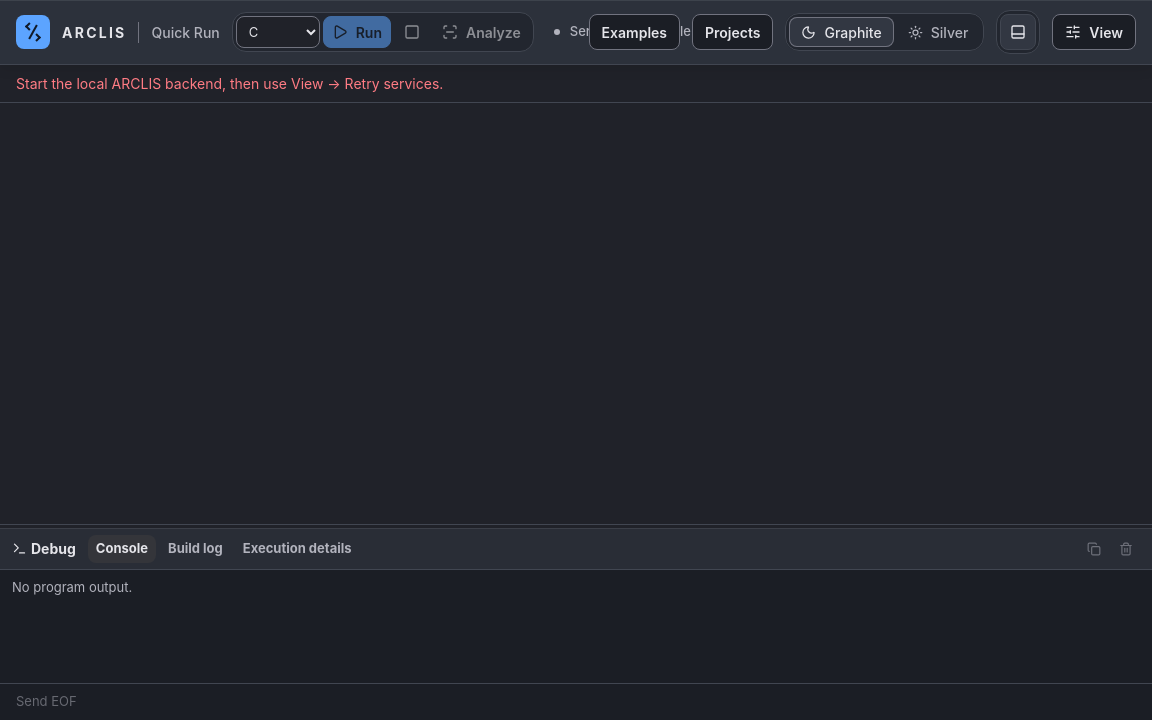
Test: the component preview › switches the source sample and resets the controls without changing the theme
Click the button "View". click: (1094, 32)
box: [1052,14,1136,50]
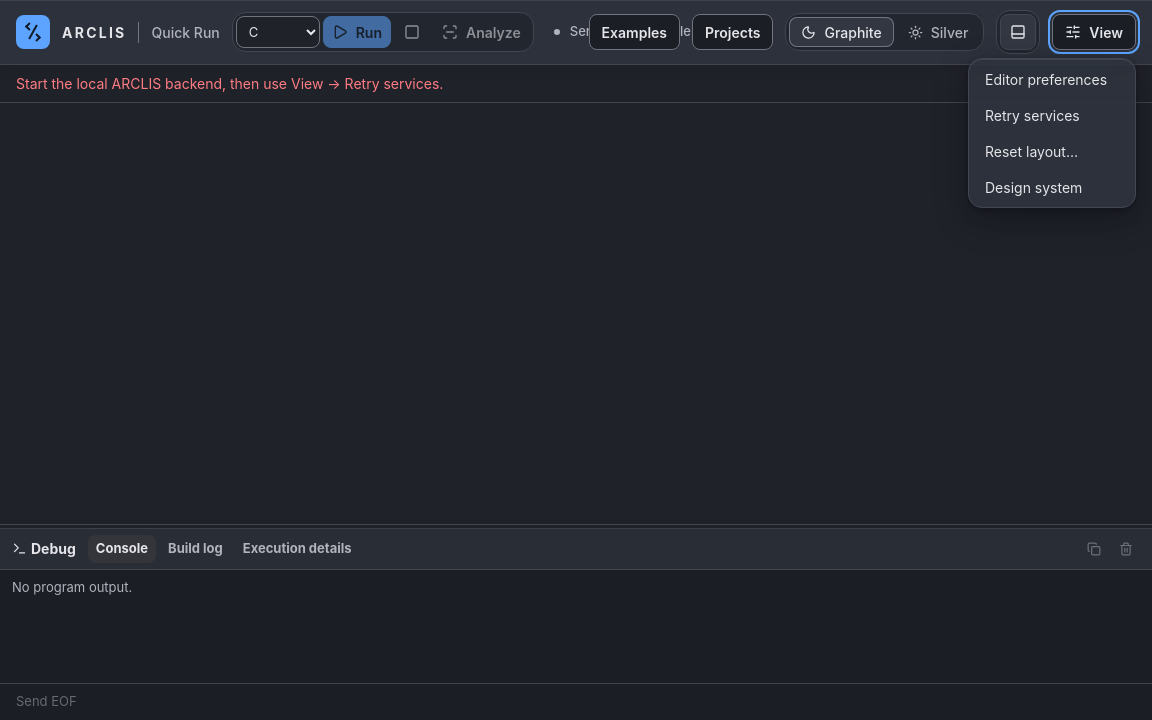
Click the button "Design system". click: (1052, 187)
box: [973,171,1131,203]
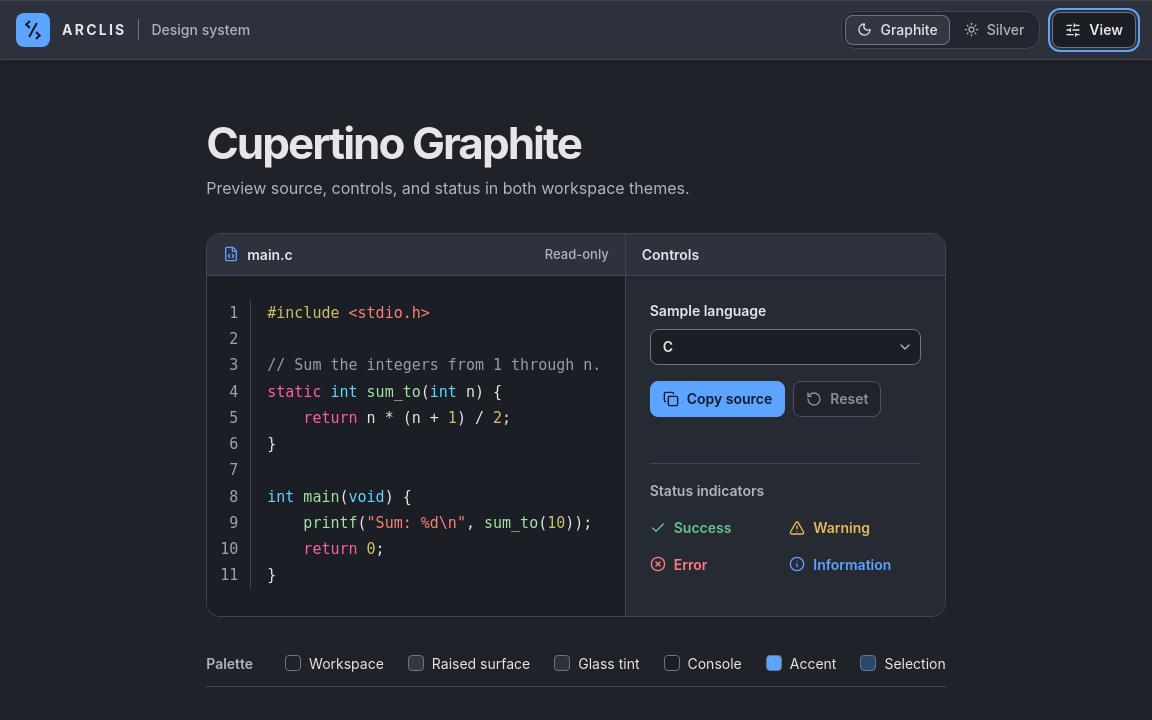
Result: the button "Reset" is disabled at [793,381,882,417]
Click the radio button labelled "Silver". click: (994, 30)
box: [964,21,1024,38]
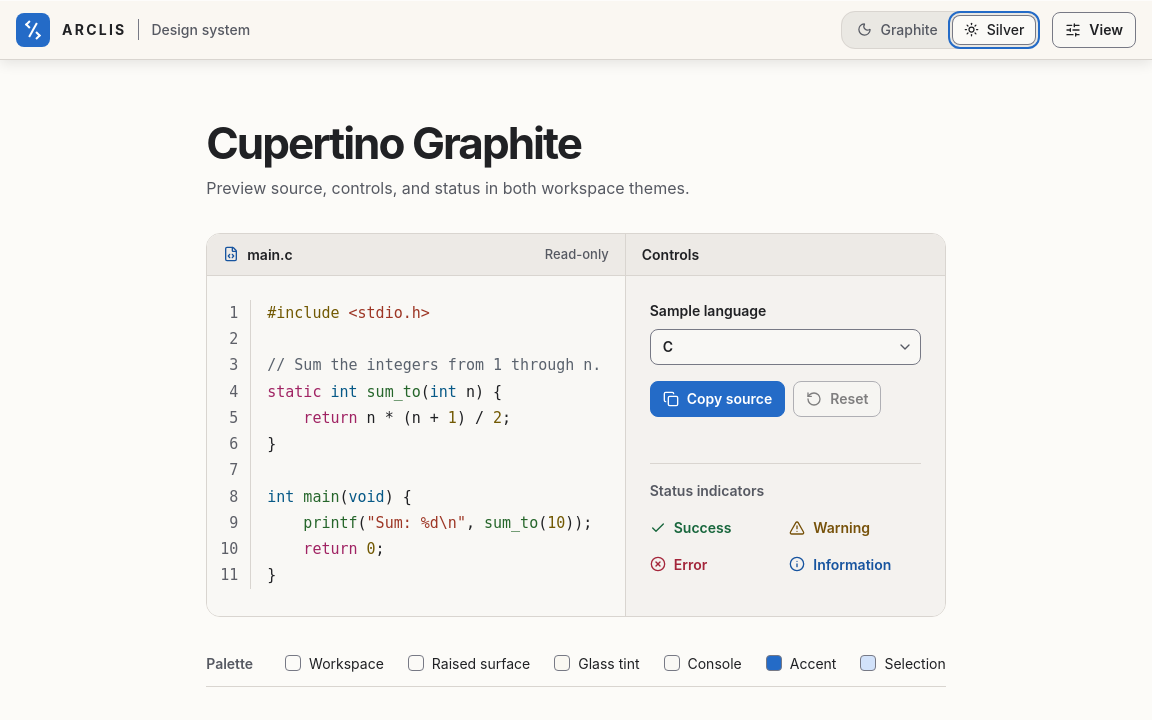
Select "Python" in the dropdown labelled "Sample language". click: (785, 347)
box: [650,329,921,365]
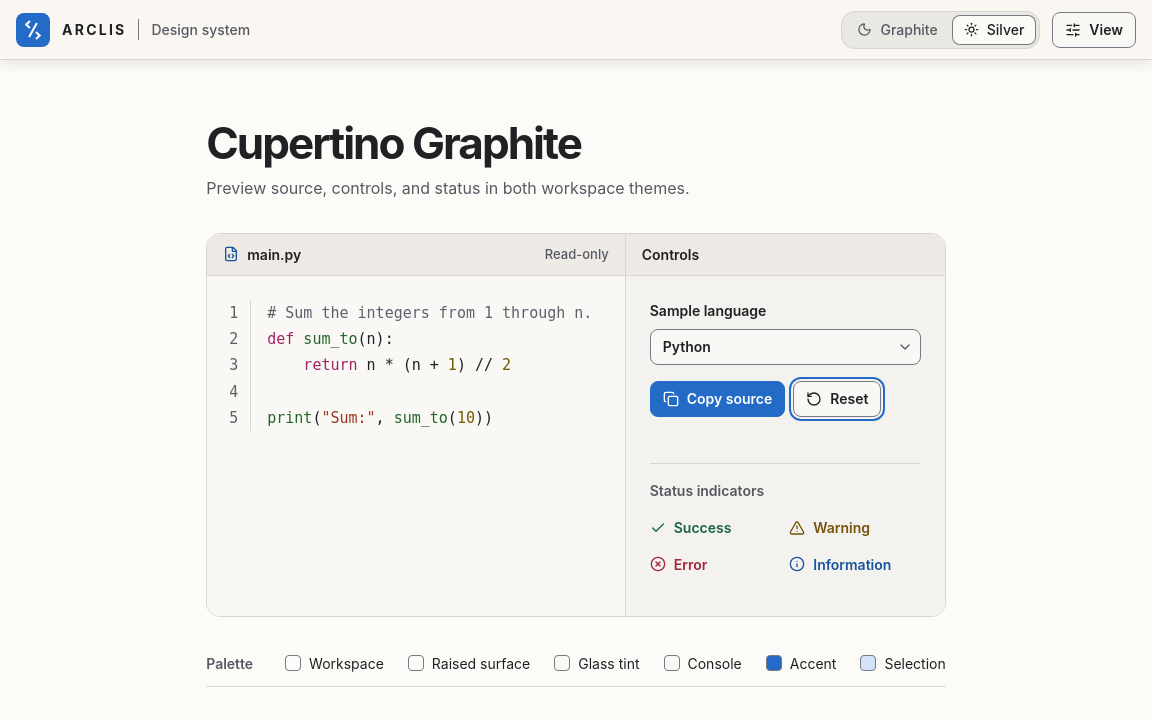
Result: the element named "Python source sample" is shown at [207,300,592,431]
Result: the text "main.py" is shown at [223,244,301,265]
Press Enter
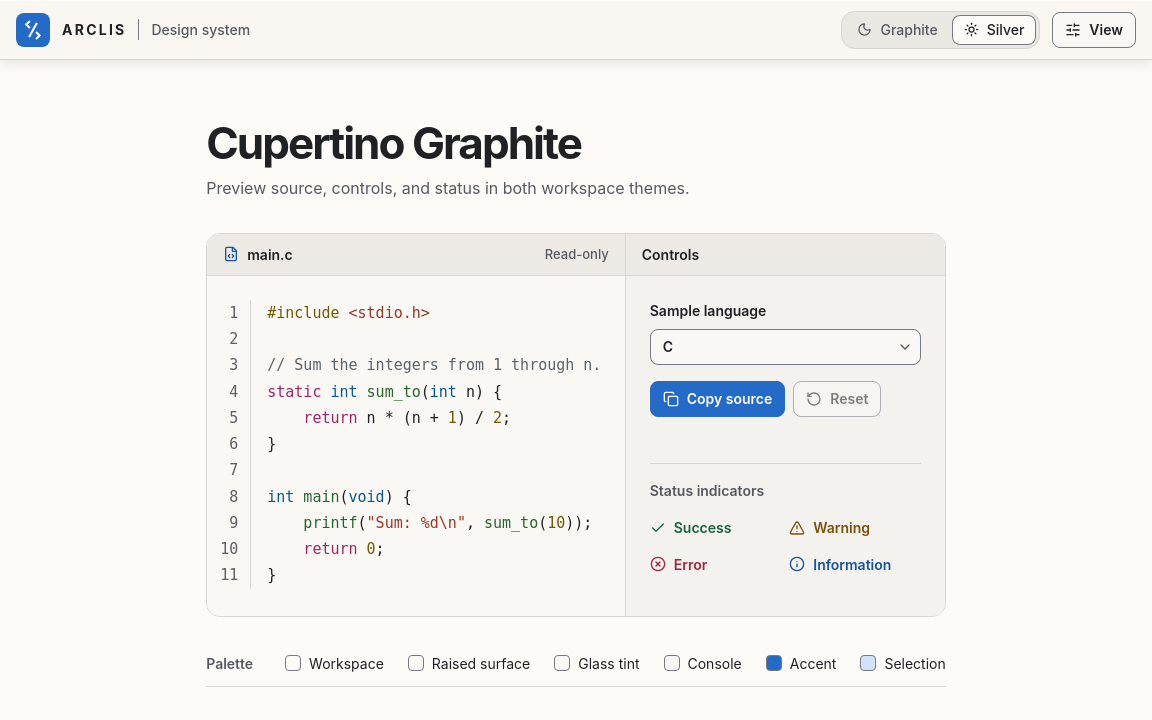
Result: the text "main.c" is shown at [223,244,293,265]
